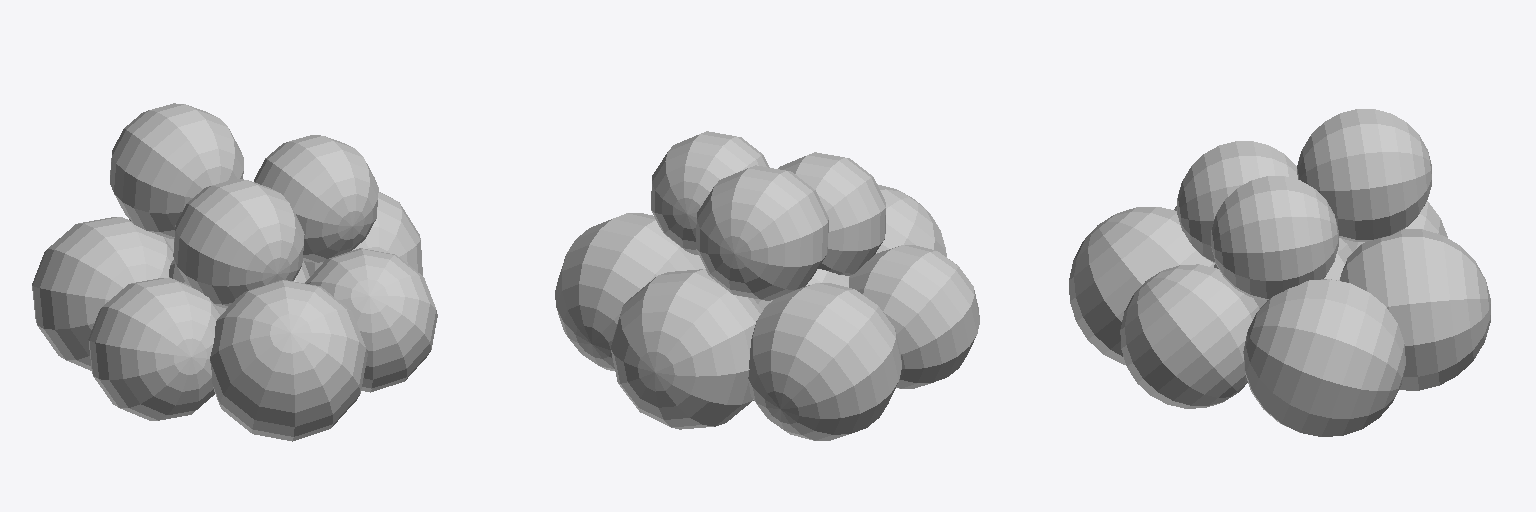
Rendered from snow_balls.obj.
3 renders of one model, left to right at view 1: azimuth 30°, elevation 25°; view 2: azimuth 150°, elevation 25°; view 3: azimuth 270°, elevation 25°, orthographic.
Parts seen in each view (by area): view 1: snow_balls_detail.001_Sphere.020; view 2: snow_balls_detail.001_Sphere.020; view 3: snow_balls_detail.001_Sphere.020.
Boxes of the visible parts, box(x1,y1,x2,y2) form: snow_balls_detail.001_Sphere.020: box(32, 103, 437, 441); snow_balls_detail.001_Sphere.020: box(555, 131, 979, 440); snow_balls_detail.001_Sphere.020: box(1069, 109, 1490, 436).
Bounding box in the file's own units: 0.935 × 0.6106 × 0.9543.